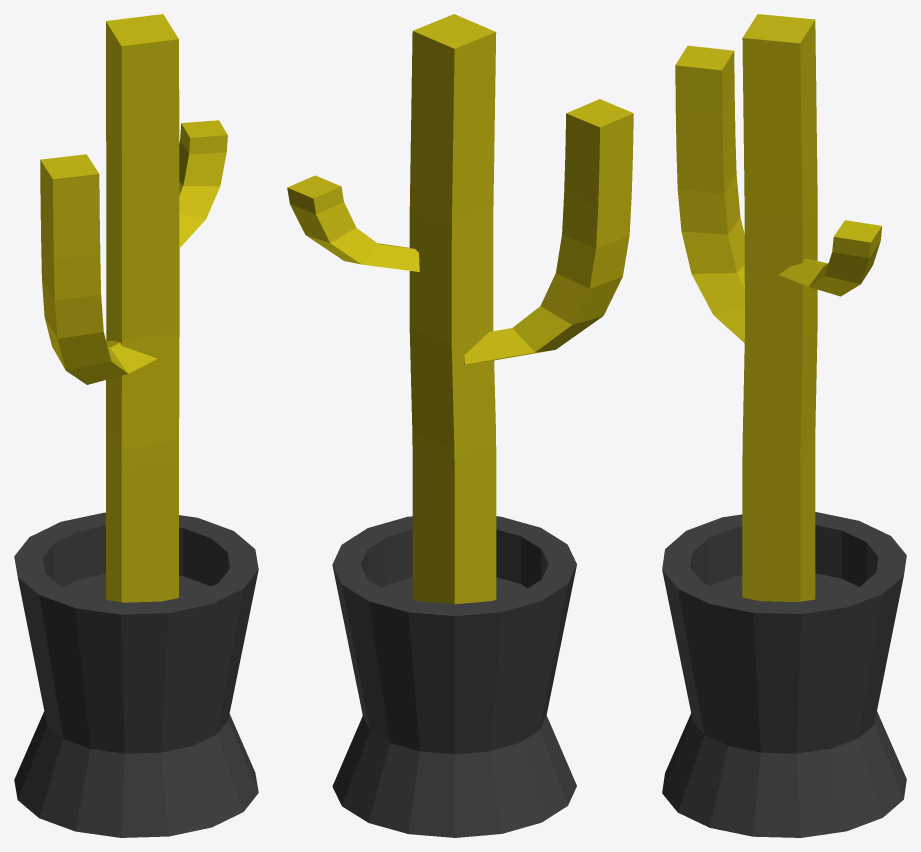
Rendered from cactus_grande_01_000015.obj.
The picture shows the model from 3 angles, left to right: view 1: azimuth 30°, elevation 25°; view 2: azimuth 150°, elevation 25°; view 3: azimuth 270°, elevation 25°; orthographic projection.
Visible parts, largest first — view 1: Cylinder, NurbsPath.001, NurbsPath.002, NurbsPath.003; view 2: Cylinder, NurbsPath.001, NurbsPath.002, NurbsPath.003; view 3: Cylinder, NurbsPath.001, NurbsPath.002, NurbsPath.003.
Part boxes in pixels (x1,y1,x2,y2): Cylinder: (14, 512, 258, 837); NurbsPath.001: (106, 14, 179, 602); NurbsPath.002: (40, 154, 157, 384); NurbsPath.003: (179, 120, 227, 248); Cylinder: (332, 516, 576, 837); NurbsPath.001: (409, 14, 496, 604); NurbsPath.002: (464, 99, 633, 364); NurbsPath.003: (287, 175, 419, 271); Cylinder: (662, 512, 906, 837); NurbsPath.001: (742, 14, 817, 601); NurbsPath.002: (675, 45, 744, 342); NurbsPath.003: (779, 220, 882, 296).
Size of the model in its own units: 1.57 by 4.41 by 1.29.
